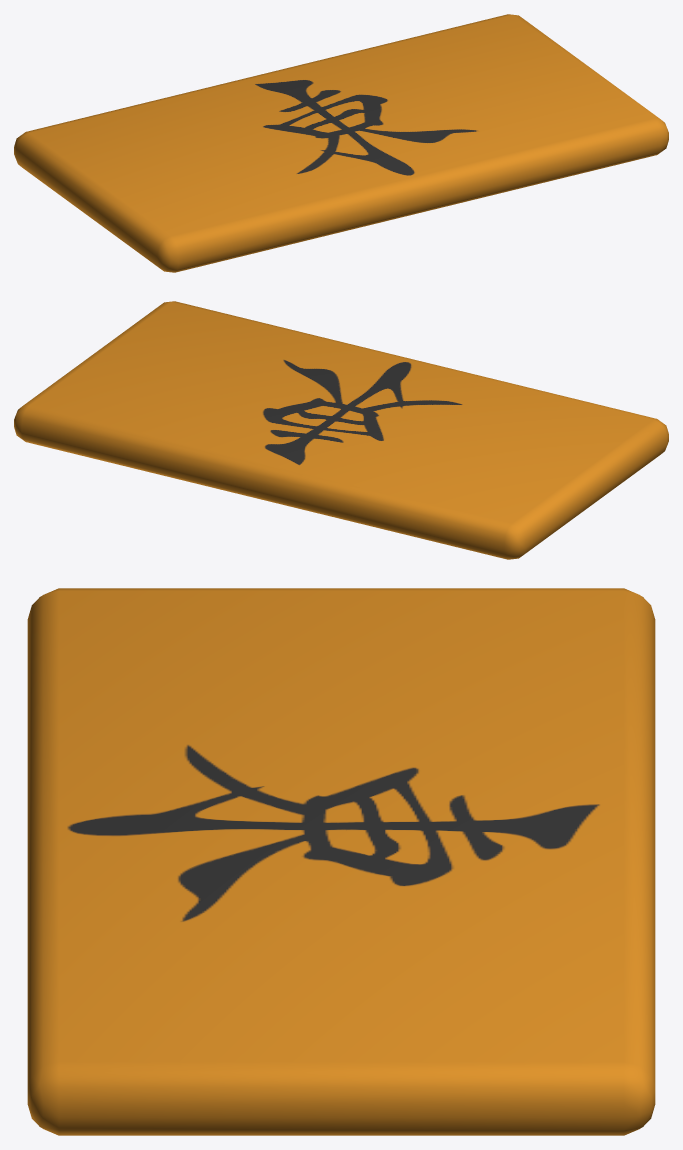
The model's file is chicha E.fbx.
The picture shows the model from 3 angles, top to bottom: view 1: azimuth 30°, elevation 25°; view 2: azimuth 150°, elevation 25°; view 3: azimuth 270°, elevation 25°; orthographic projection. The views are drawn at different scales.
Visible parts, largest first — view 1: chicha; view 2: chicha; view 3: chicha.
Part boxes in pixels (bbox=[...]): chicha: bbox=[14, 14, 668, 272]; chicha: bbox=[14, 301, 668, 559]; chicha: bbox=[27, 588, 655, 1135].
Bounding box in the file's own units: 15 × 1 × 8.
